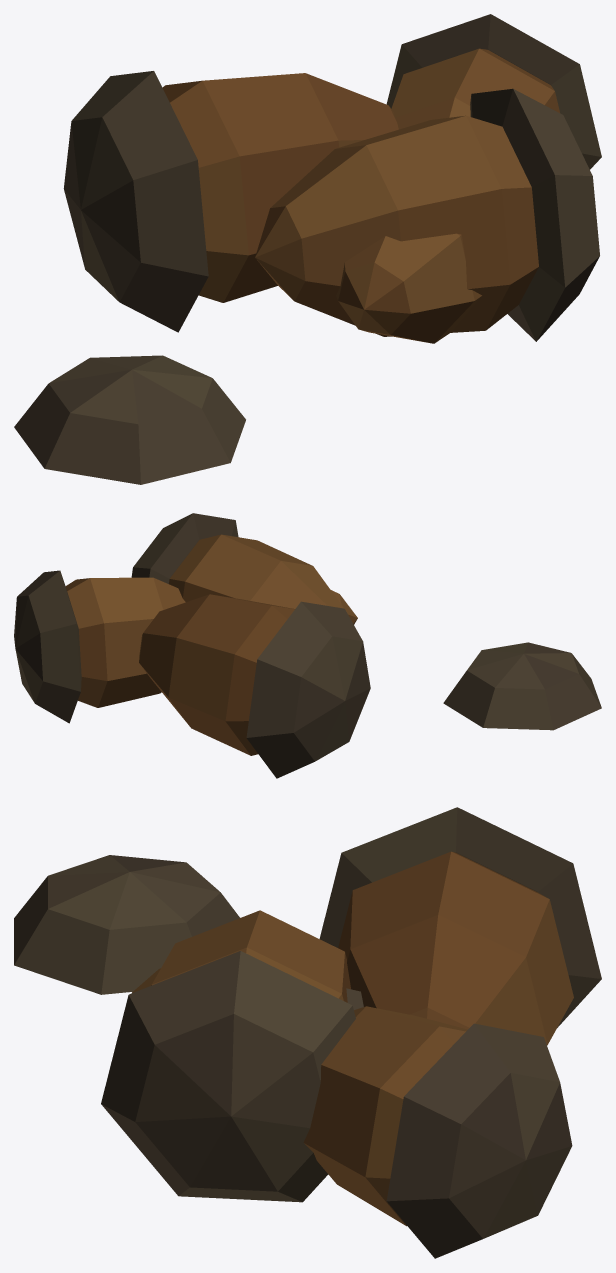
Rendered from fruit_ground_acorns_b.glb.
3 renders of one model, top to bottom at view 1: azimuth 30°, elevation 25°; view 2: azimuth 150°, elevation 25°; view 3: azimuth 270°, elevation 25°, orthographic. The views are drawn at different scales.
Visible parts, largest first — view 1: fruit_ground_acorns_b; view 2: fruit_ground_acorns_b; view 3: fruit_ground_acorns_b.
Part boxes in pixels (left/top/right/bottom): fruit_ground_acorns_b: left=14, top=14, right=601, bottom=484; fruit_ground_acorns_b: left=14, top=513, right=601, bottom=778; fruit_ground_acorns_b: left=14, top=807, right=601, bottom=1258.
Bounding box in the file's own units: 0.8752 × 0.2858 × 0.5924.
